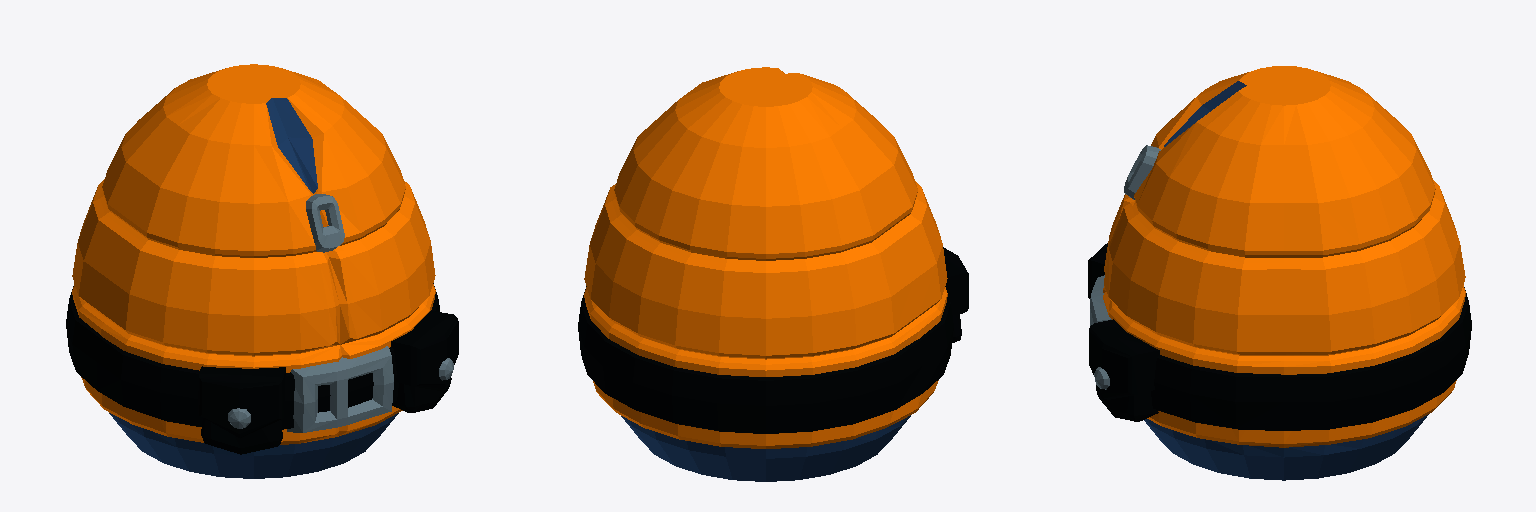
Rendered from character_polarExplorerBody.obj.
The picture shows the model from 3 angles: view 1: azimuth 30°, elevation 25°; view 2: azimuth 150°, elevation 25°; view 3: azimuth 270°, elevation 25°; orthographic projection.
Parts seen in each view (by area): view 1: character_polarExplorerBody_Cube.4627; view 2: character_polarExplorerBody_Cube.4627; view 3: character_polarExplorerBody_Cube.4627.
Boxes of the visible parts, x1,y1,x2,y2 form: character_polarExplorerBody_Cube.4627: [66, 64, 458, 478]; character_polarExplorerBody_Cube.4627: [578, 67, 968, 481]; character_polarExplorerBody_Cube.4627: [1088, 66, 1471, 480].
Size of the model in its own units: 0.7012 by 0.7256 by 0.7417.